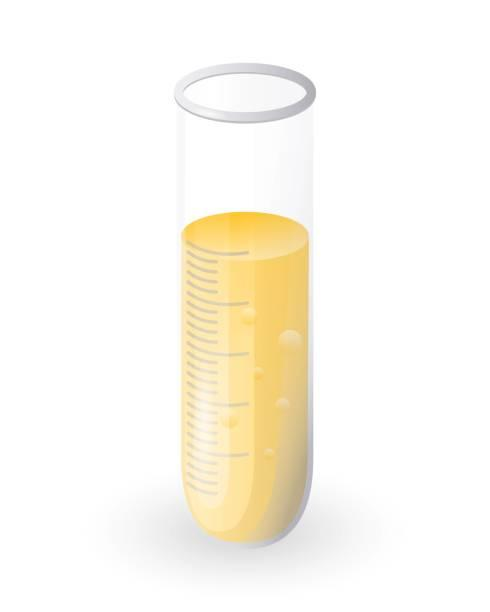Test tube: (180, 66, 332, 571)
